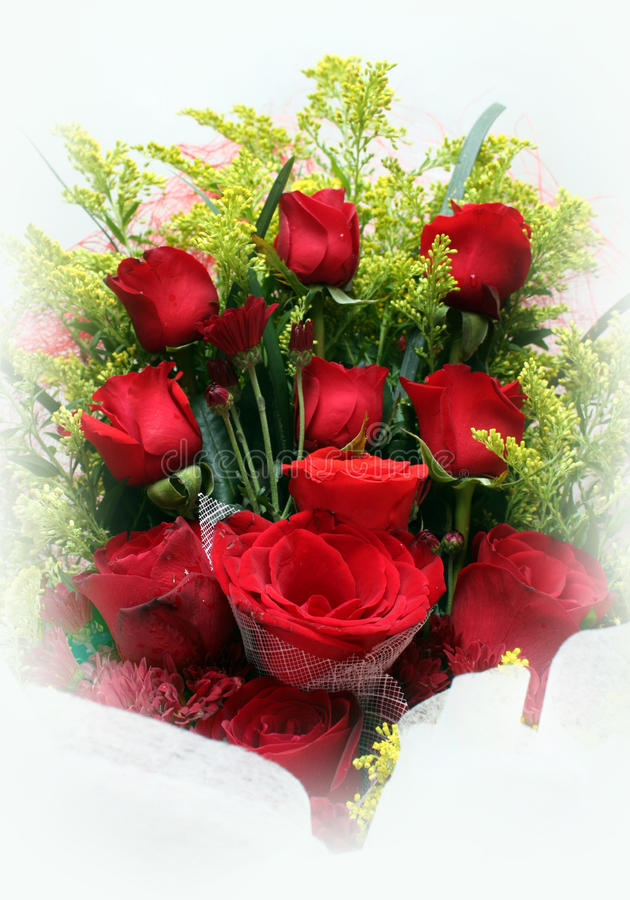RedRose: (230, 516, 411, 717), (300, 439, 453, 542), (86, 522, 186, 664), (485, 544, 582, 675), (121, 380, 215, 509), (426, 205, 525, 317), (446, 380, 538, 478), (269, 194, 352, 288), (116, 260, 204, 347), (311, 354, 363, 435)
